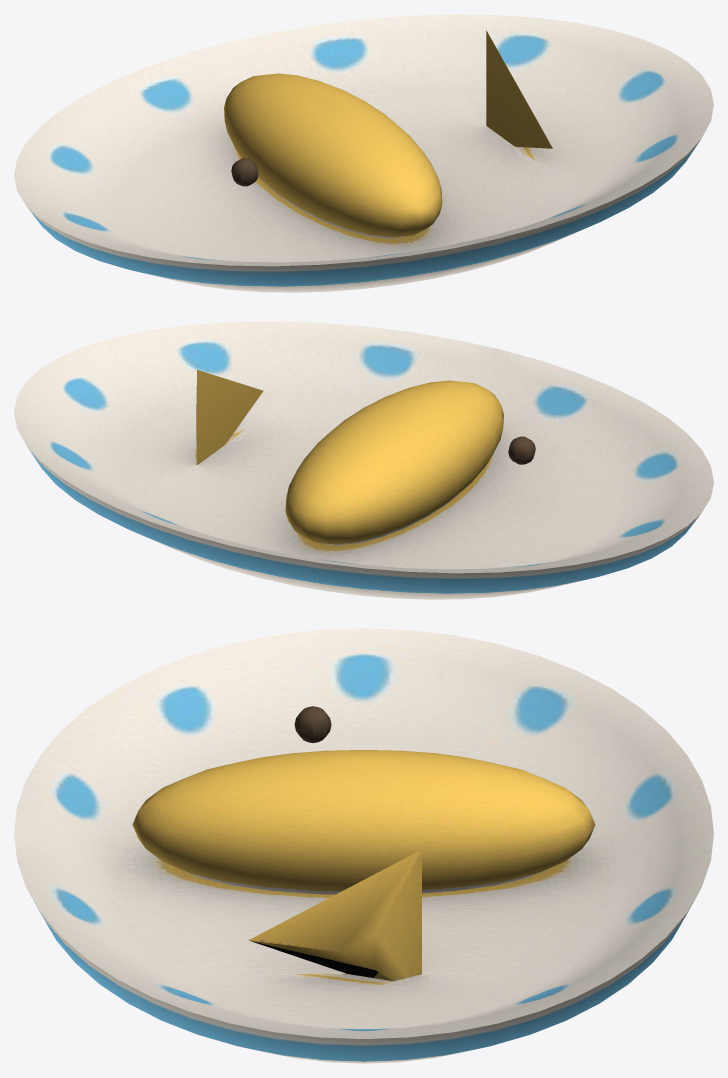
Rendered from fish_plate.glb.
3 views of the same model, one above another, from view 1: azimuth 30°, elevation 25°; view 2: azimuth 150°, elevation 25°; view 3: azimuth 270°, elevation 25° (orthographic). The views are drawn at different scales.
Visible parts, largest first — view 1: fish_plate; view 2: fish_plate; view 3: fish_plate.
Boxes of the visible parts, x1,y1,x2,y2 form: fish_plate: (14,14,713,292); fish_plate: (14,321,713,599); fish_plate: (14,628,713,1063).
Size of the model in its own units: 0.42 by 0.0713 by 0.3024.
1 material, 1 textured.
